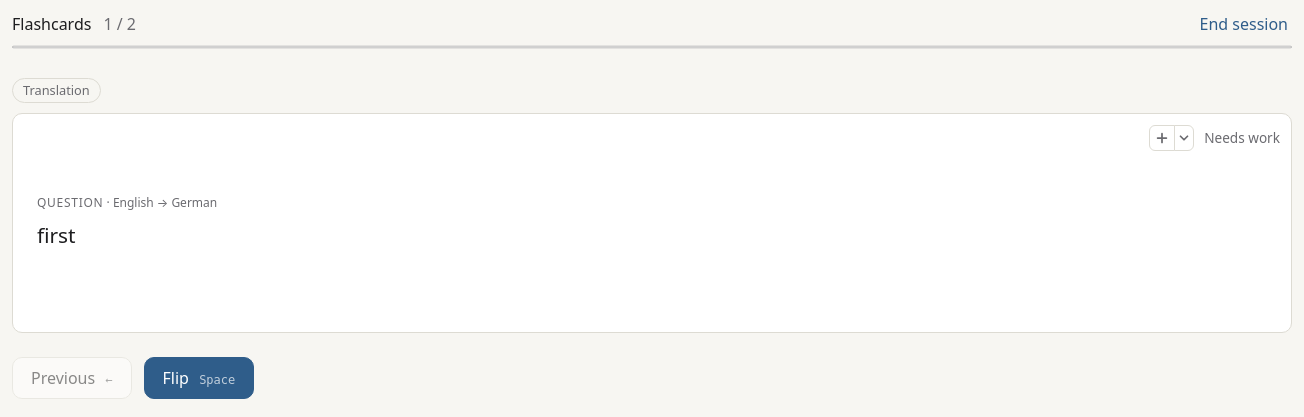
Scenario: list controls save membership against the loaded content and show it again when revisiting a card
This screenshot has width=1304, height=417.
Click the button named "Add to Needs work": (1162, 138) top-left (1149, 125), bottom-right (1175, 151)
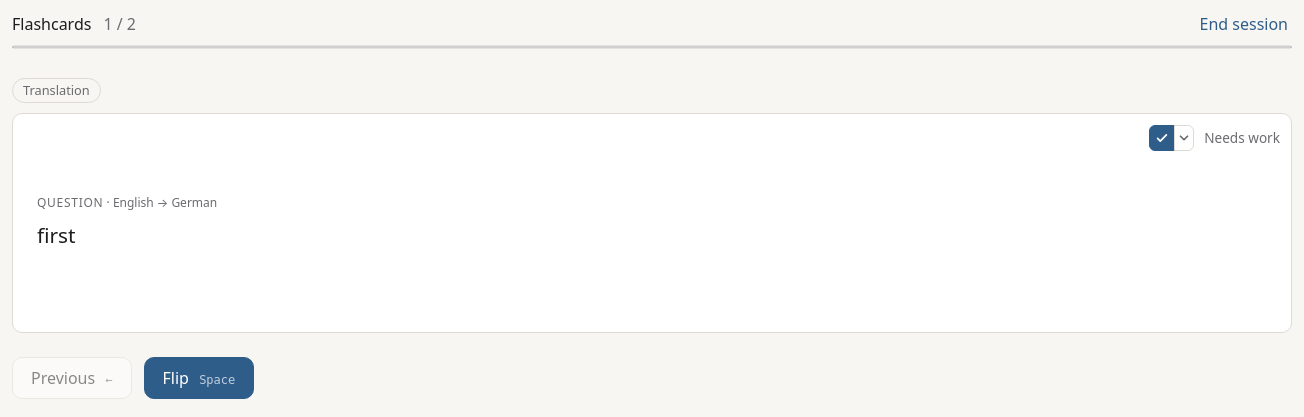
expect the button named "Remove from Needs work" is shown: met, box top-left (1149, 125), bottom-right (1175, 151)
Click the button "Flip Space": (199, 378) top-left (144, 357), bottom-right (254, 399)
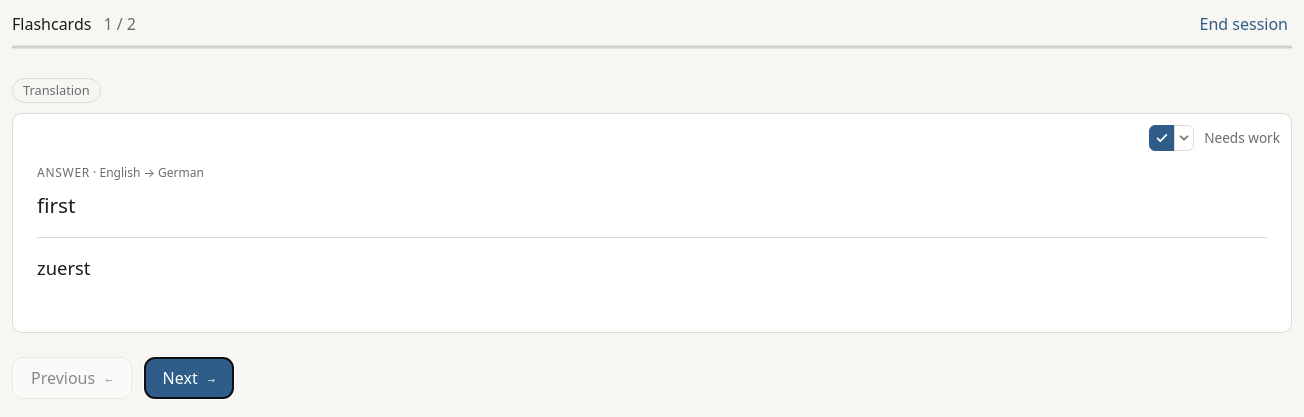
Click the button "Next →": (189, 378) top-left (144, 357), bottom-right (234, 399)
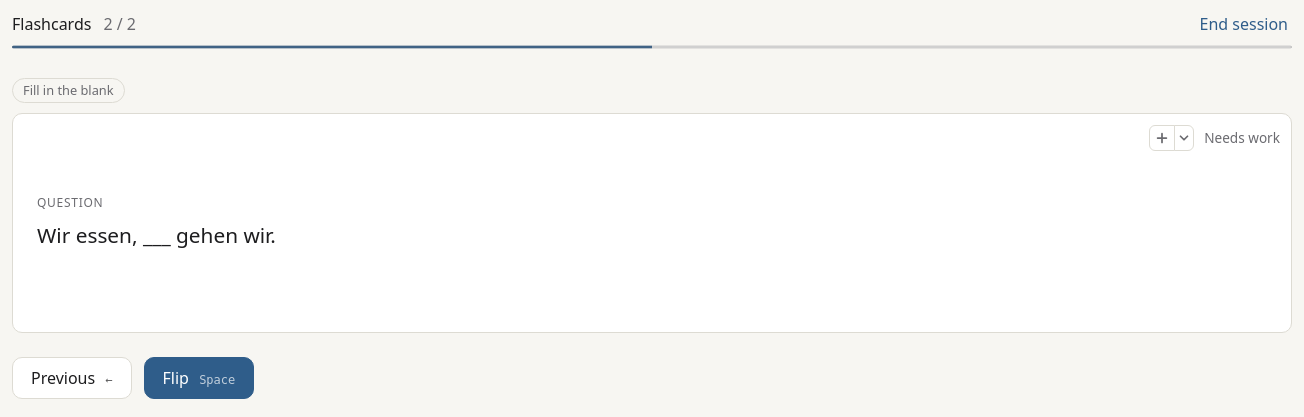
expect the button named "Add to Needs work" is shown: met, box top-left (1149, 125), bottom-right (1175, 151)
Press ArrowLeft
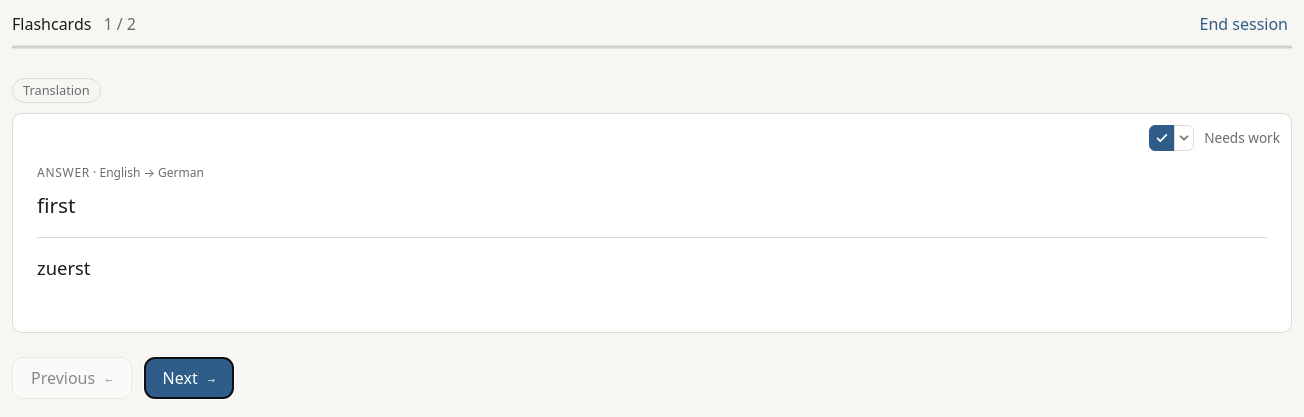
expect the button named "Remove from Needs work" is shown: met, box top-left (1149, 125), bottom-right (1175, 151)
